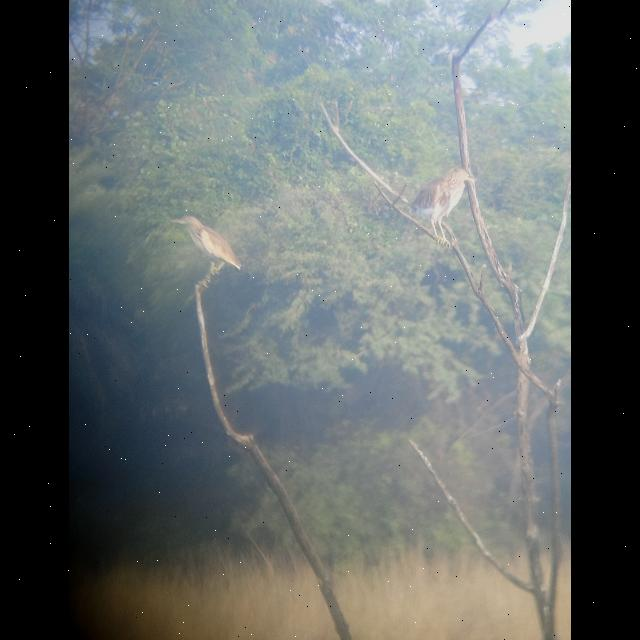heron: (409, 162, 481, 246)
